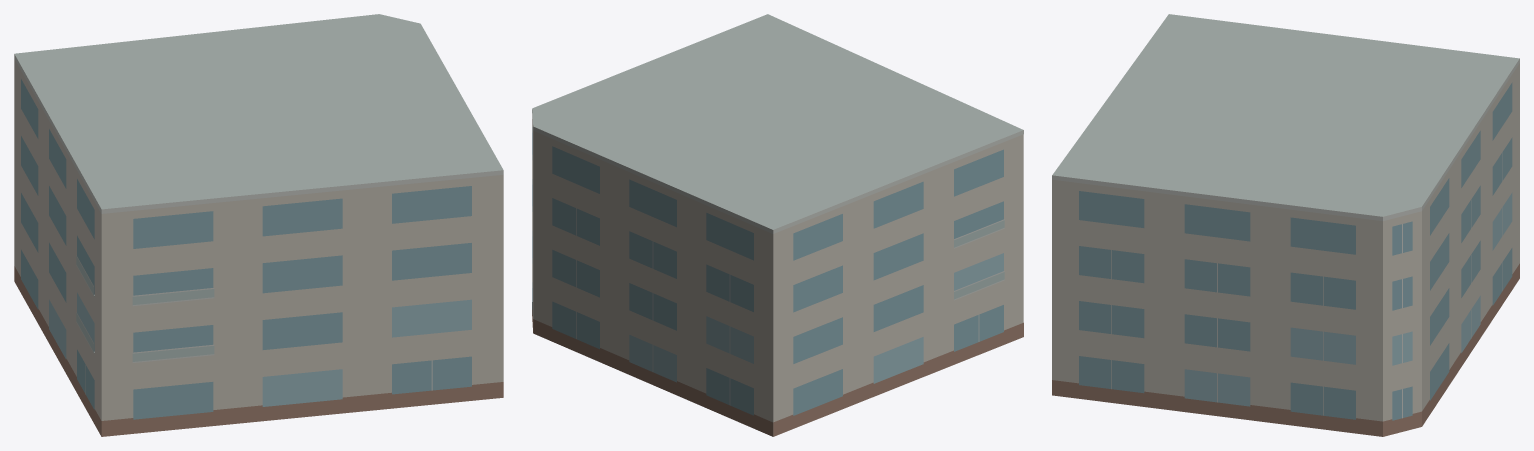
The model's file is survey-upis-32871906.glb.
The picture shows the model from 3 angles, left to right: view 1: azimuth 30°, elevation 25°; view 2: azimuth 150°, elevation 25°; view 3: azimuth 270°, elevation 25°; orthographic projection. The views are drawn at different scales.
Parts seen in each view (by area): view 1: survey-upis-32871906.tmp; view 2: survey-upis-32871906.tmp; view 3: survey-upis-32871906.tmp.
Part boxes in pixels (x1,y1,x2,y2): survey-upis-32871906.tmp: (14,14,503,436); survey-upis-32871906.tmp: (532,14,1023,436); survey-upis-32871906.tmp: (1052,14,1519,436).
Bounding box in the file's own units: 24.13 × 12.2 × 23.51.
